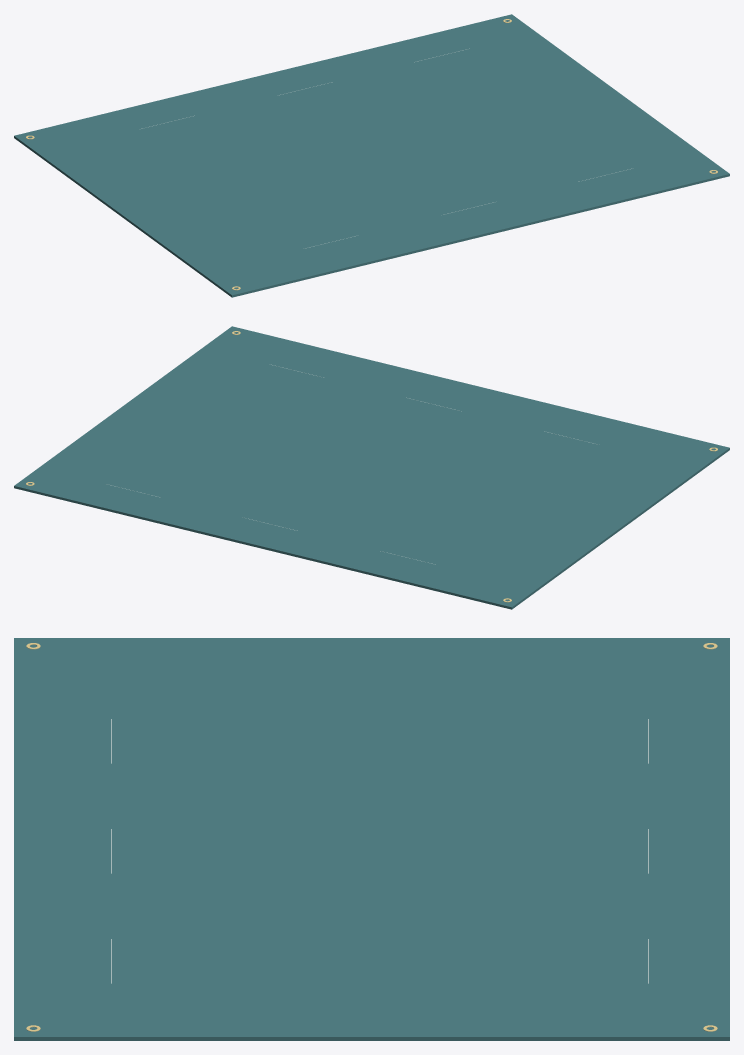
The model's file is 313_L123_PCB_Main.glb.
3 views of the same model, one above another, from view 1: azimuth 30°, elevation 25°; view 2: azimuth 150°, elevation 25°; view 3: azimuth 270°, elevation 25° (orthographic). The views are drawn at different scales.
Visible parts, largest first — view 1: 313_L123_PCB_Main__PSMAT__pcb; view 2: 313_L123_PCB_Main__PSMAT__pcb; view 3: 313_L123_PCB_Main__PSMAT__pcb.
Part boxes in pixels (<box>): 313_L123_PCB_Main__PSMAT__pcb: <box>14,14,729,297</box>; 313_L123_PCB_Main__PSMAT__pcb: <box>14,326,729,609</box>; 313_L123_PCB_Main__PSMAT__pcb: <box>14,638,729,1040</box>.
Size of the model in its own units: 0.58 by 0.0029 by 0.44.
